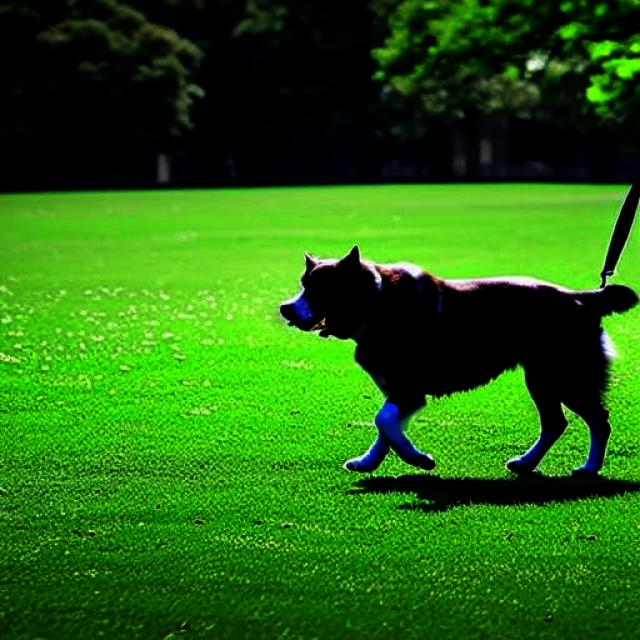Dog: (279, 244, 640, 477)
